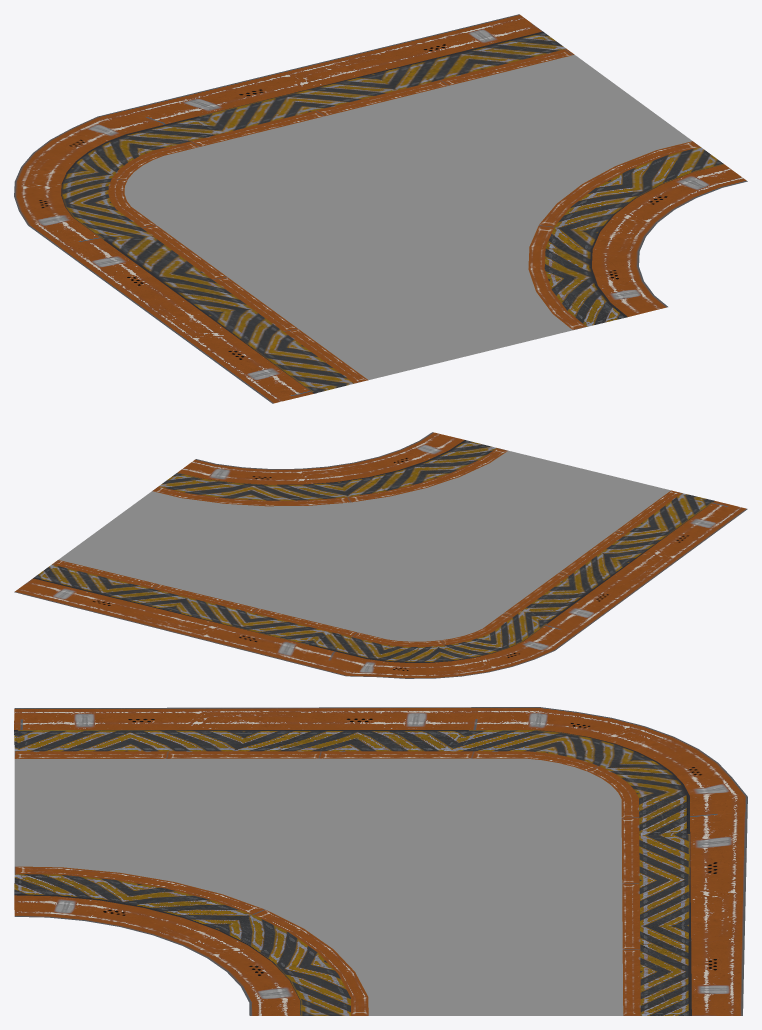
Rendered from floor_c.FBX.
3 views of the same model, one above another, from view 1: azimuth 30°, elevation 25°; view 2: azimuth 150°, elevation 25°; view 3: azimuth 270°, elevation 25° (orthographic). The views are drawn at different scales.
Parts seen in each view (by area): view 1: Plane003; view 2: Plane003; view 3: Plane003.
Boxes of the visible parts, <box> form: Plane003: <box>14,14,747,403</box>; Plane003: <box>14,432,747,678</box>; Plane003: <box>14,707,747,1015</box>.
Size of the model in its own units: 591 by 2.06 by 595.
